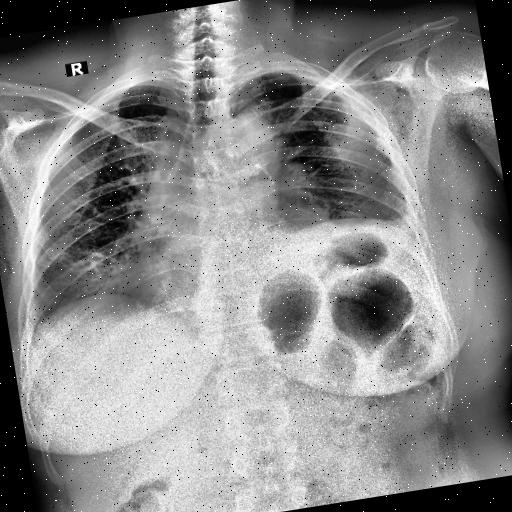0- Aortic enlargement: (188, 107, 280, 186), (221, 112, 283, 178), (213, 108, 280, 166)
10- Pleural effusion: (338, 195, 418, 243), (384, 198, 418, 238)
11- Pleural thickening: (338, 195, 418, 243), (384, 198, 418, 238)
3- Cardiomegaly: (126, 206, 354, 308)
9- Other lesion: (245, 200, 440, 324), (237, 206, 430, 315)
